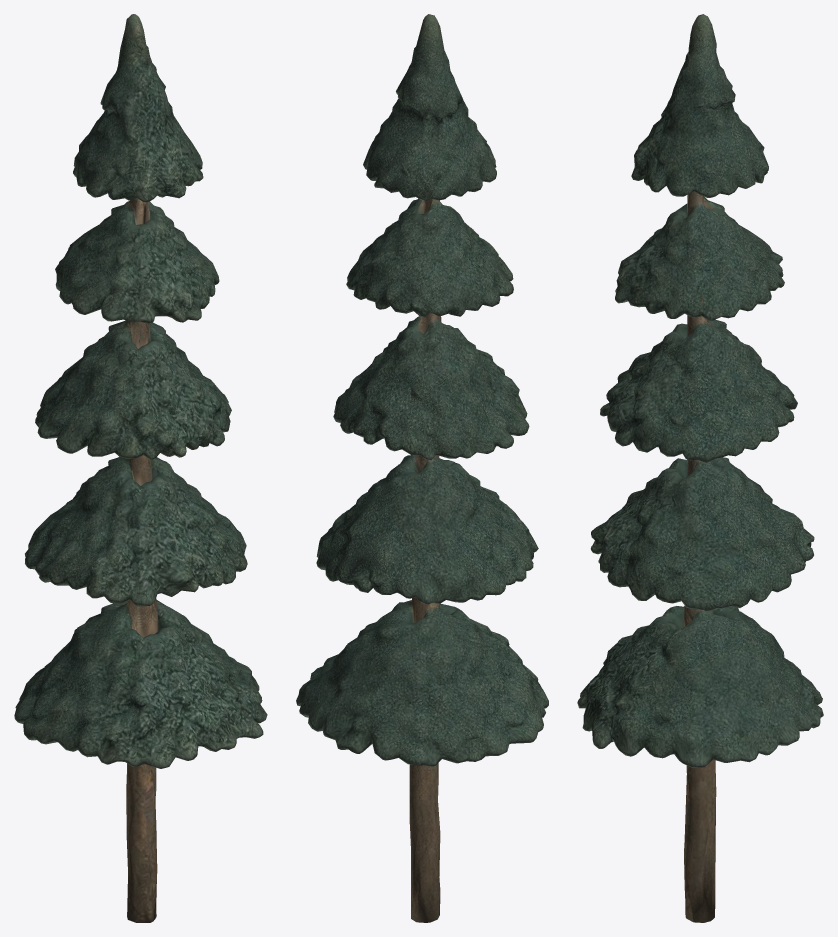
File: abeto_joven_alto.glb
The picture shows the model from 3 angles, left to right: view 1: azimuth 30°, elevation 25°; view 2: azimuth 150°, elevation 25°; view 3: azimuth 270°, elevation 25°; orthographic projection.
Parts seen in each view (by area): view 1: alto; view 2: alto; view 3: alto.
Boxes of the visible parts, box(x1,y1,x2,y2) form: alto: box(14, 14, 267, 922); alto: box(296, 14, 548, 922); alto: box(577, 14, 823, 922).
Bounding box in the file's own units: 1.05 × 4 × 0.9927.
Materials: 1 (1 with a texture image).
